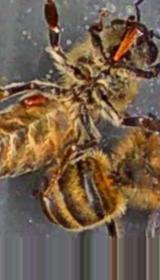varroa_mite: (15, 90, 51, 109)
